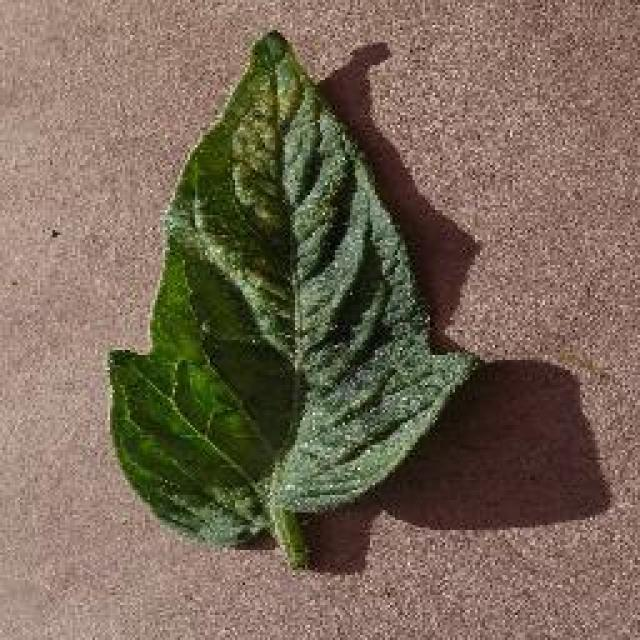Tomato spider mites leaf: (106, 24, 474, 548)
